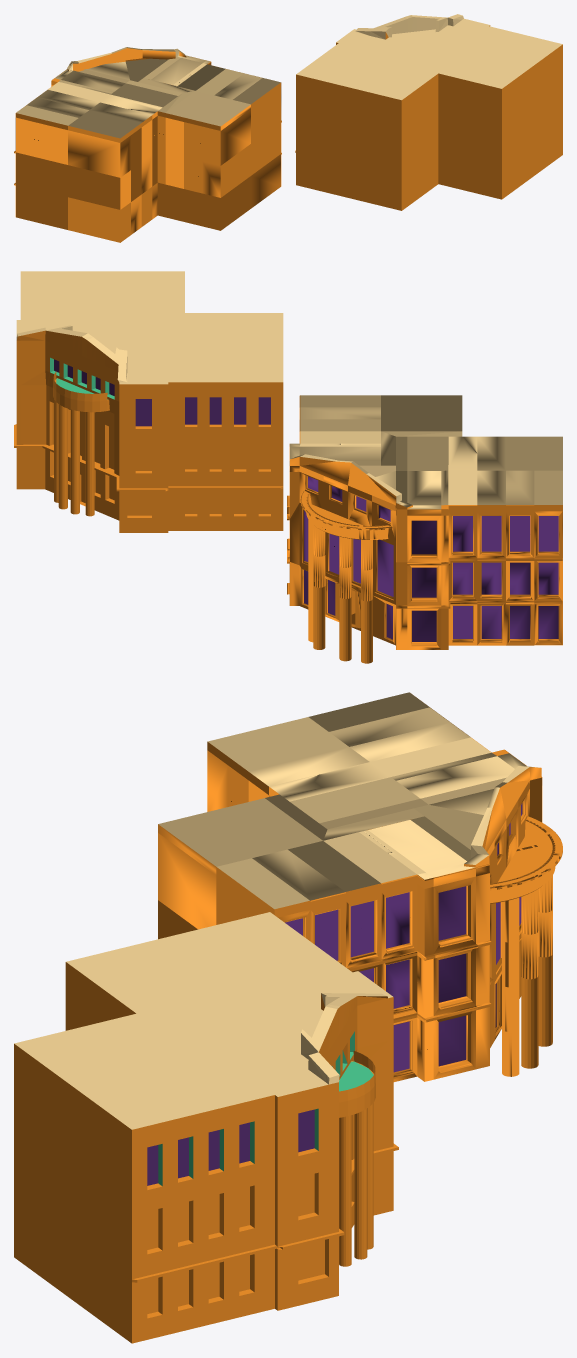
The picture shows the model from 3 angles, top to bottom: view 1: azimuth 30°, elevation 25°; view 2: azimuth 150°, elevation 25°; view 3: azimuth 270°, elevation 25°; orthographic projection. The views are drawn at different scales.
Visible parts, largest first — view 1: v1, v2; view 2: v2, v1; view 3: v1, v2.
Boxes of the visible parts, <box> form: v1: <box>295,14,562,210</box>; v2: <box>14,47,281,242</box>; v2: <box>287,395,562,663</box>; v1: <box>14,271,283,532</box>; v1: <box>14,912,398,1343</box>; v2: <box>158,692,562,1081</box>.
Bounding box in the file's own units: 4071 × 1143 × 2103.
Materials: 1 (1 with a texture image).
